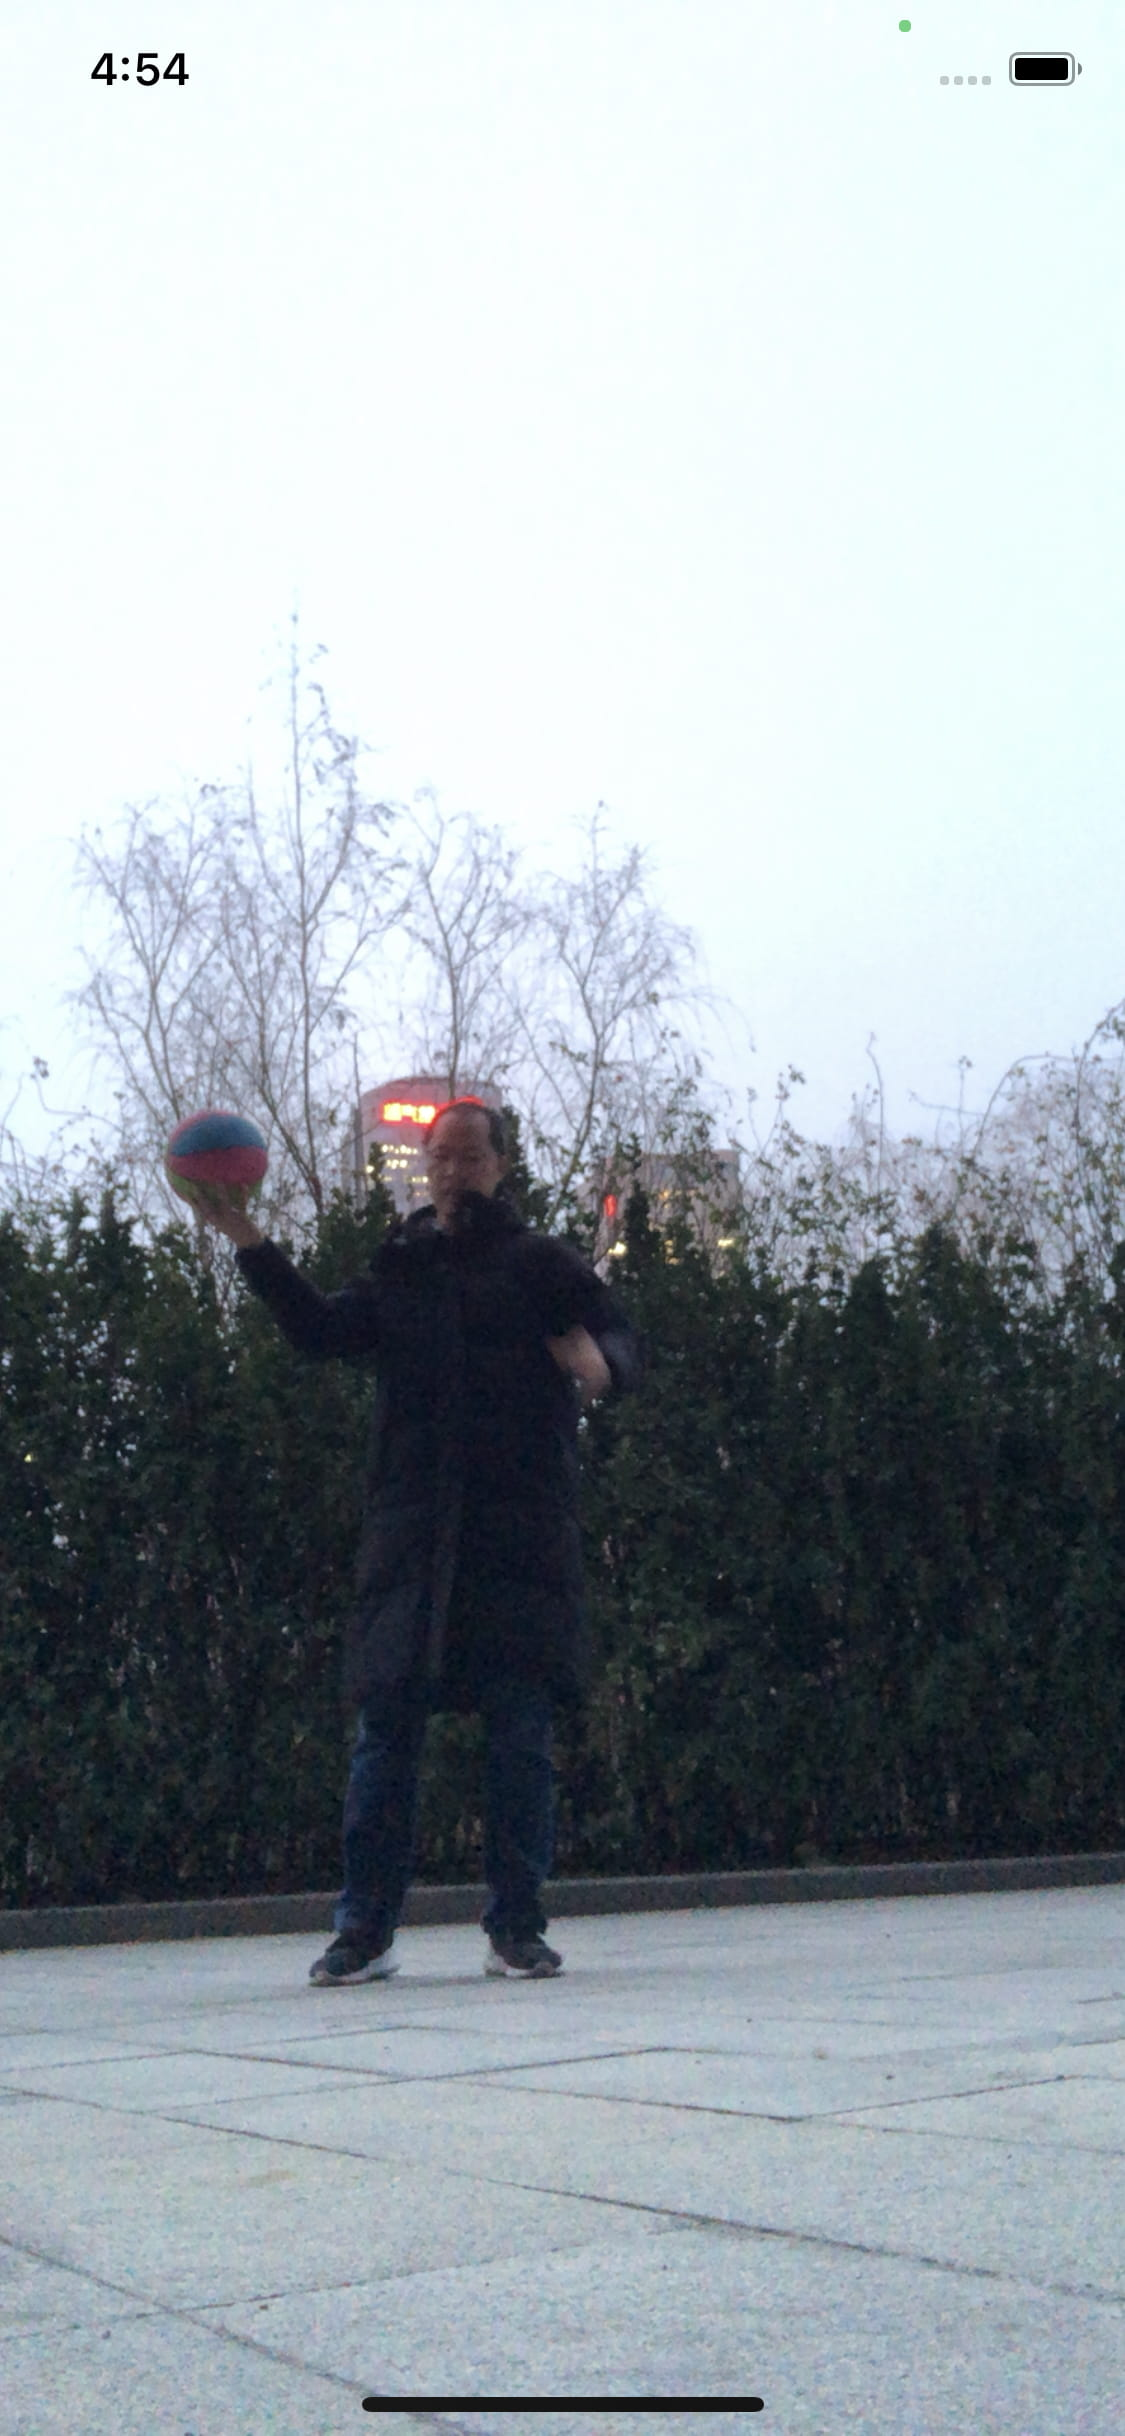ball: (165, 1112, 269, 1209)
